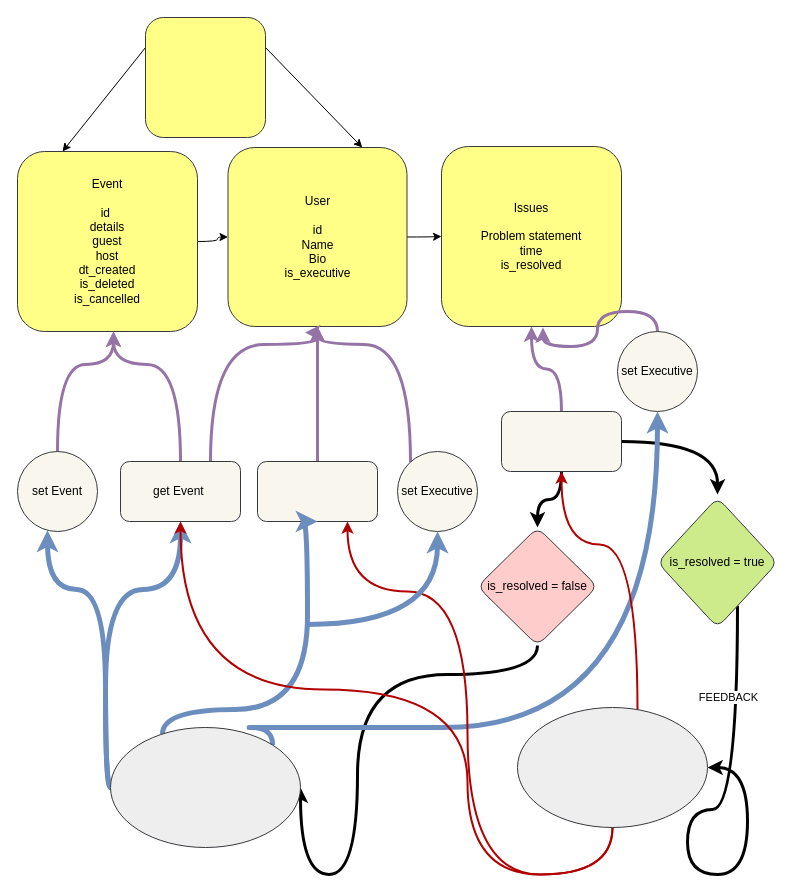
Some shapes in this 795 by 893 pixel diagram are drawn without their labels. The centre of each missing label's shape, as x and y in pixels:
"Admin" belongs at pixel 205 787.
"Executive Events user_id event_id" belongs at pixel 205 77.
"get Executive" belongs at pixel 317 491.
"get Issue" belongs at pixel 561 441.
"User" belongs at pixel 612 767.
